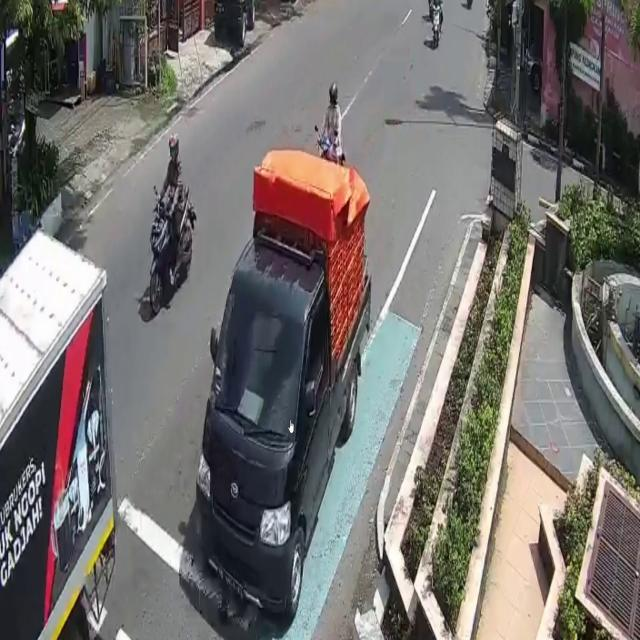car: (195, 222, 374, 621)
motorbike: (147, 184, 197, 320)
truck: (0, 228, 117, 640)
